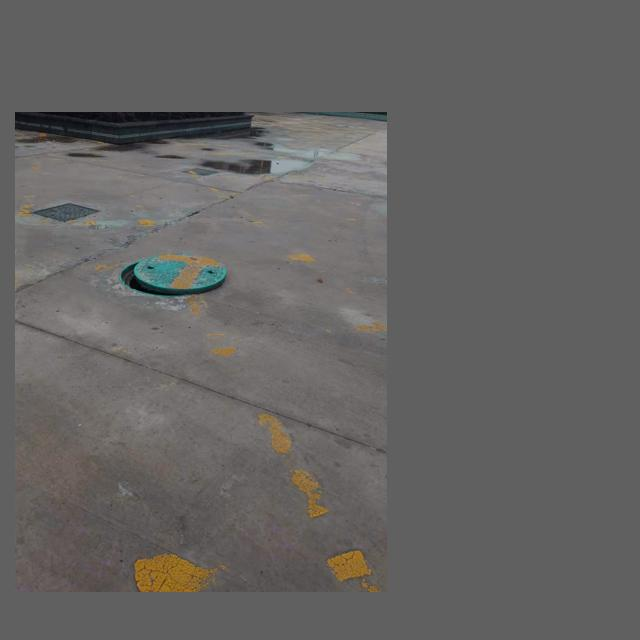uncovered: (119, 255, 226, 297)
